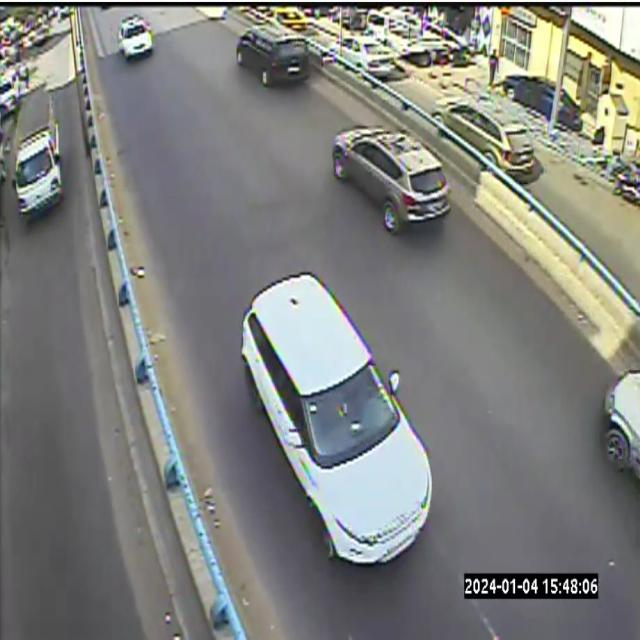car: (237, 24, 310, 86), (605, 370, 639, 478), (330, 35, 396, 79), (331, 36, 397, 80), (502, 75, 555, 121), (557, 89, 582, 131)
